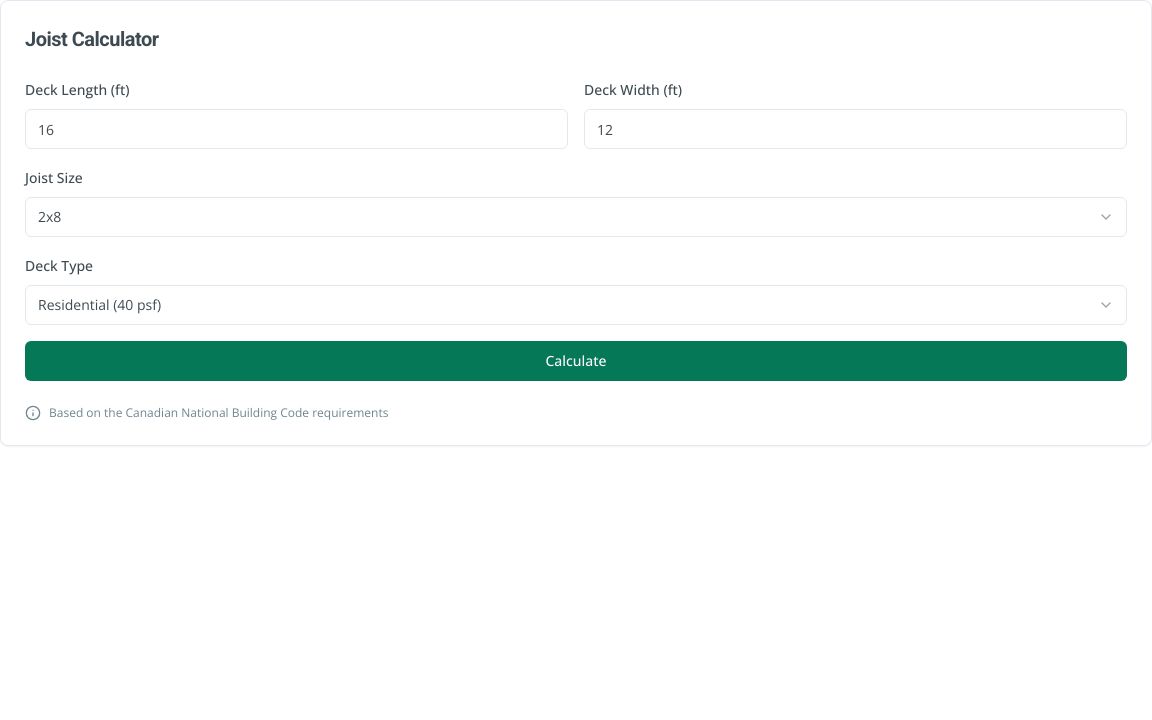
Test: JoistCalculator › clears a previous validation error once valid dimensions are calculated
The width and height of the screenshot is (1152, 720).
Clear the number field labelled "Deck Length (ft)". click: (296, 129)
box: [25,109,568,149]
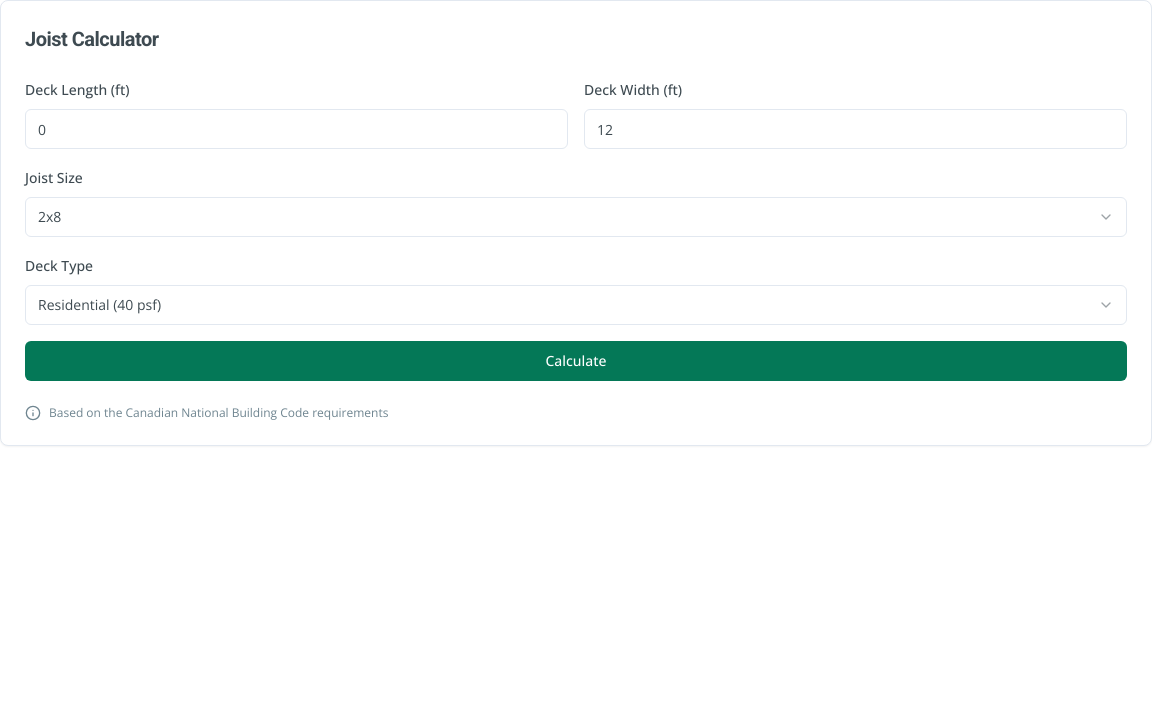
Click the button "Calculate". click: (576, 361)
box: [25,341,1127,381]
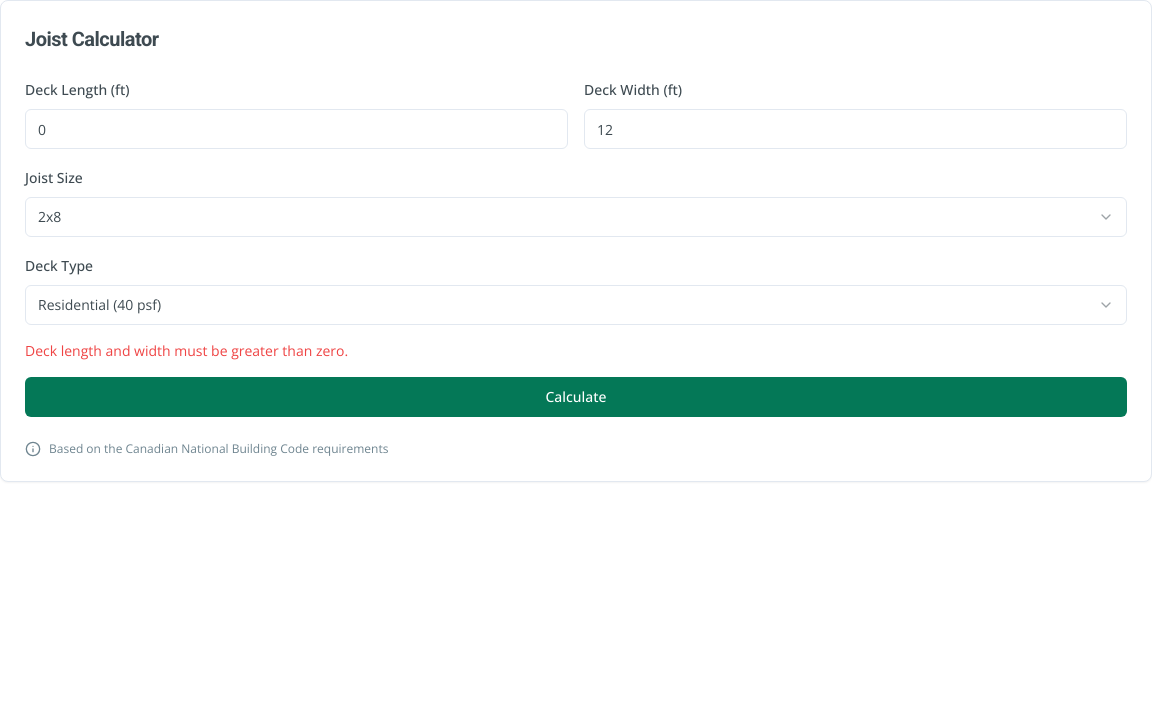
Expected: the message "Deck length and width must be greater than zero." is shown, [25,341,348,360]
Replace the text in the number field labelled "Deck Length (ft)" with "12". click: (296, 129)
box: [25,109,568,149]
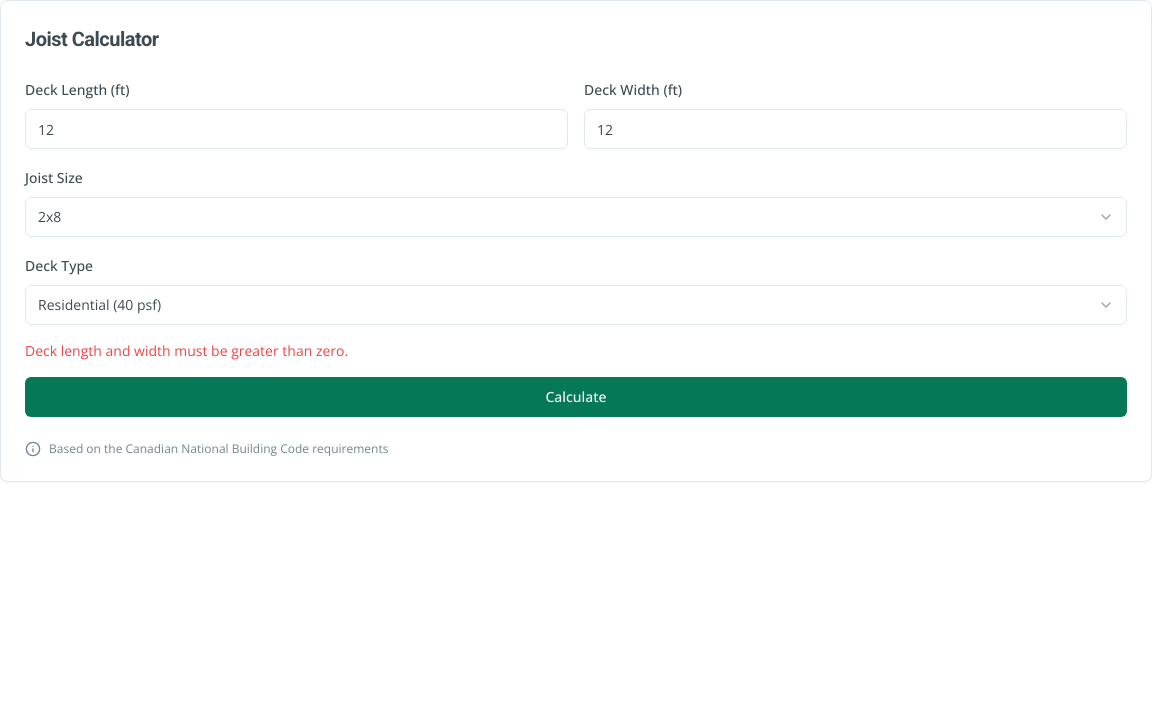
Click the button "Calculate". click: (576, 397)
box: [25,377,1127,417]
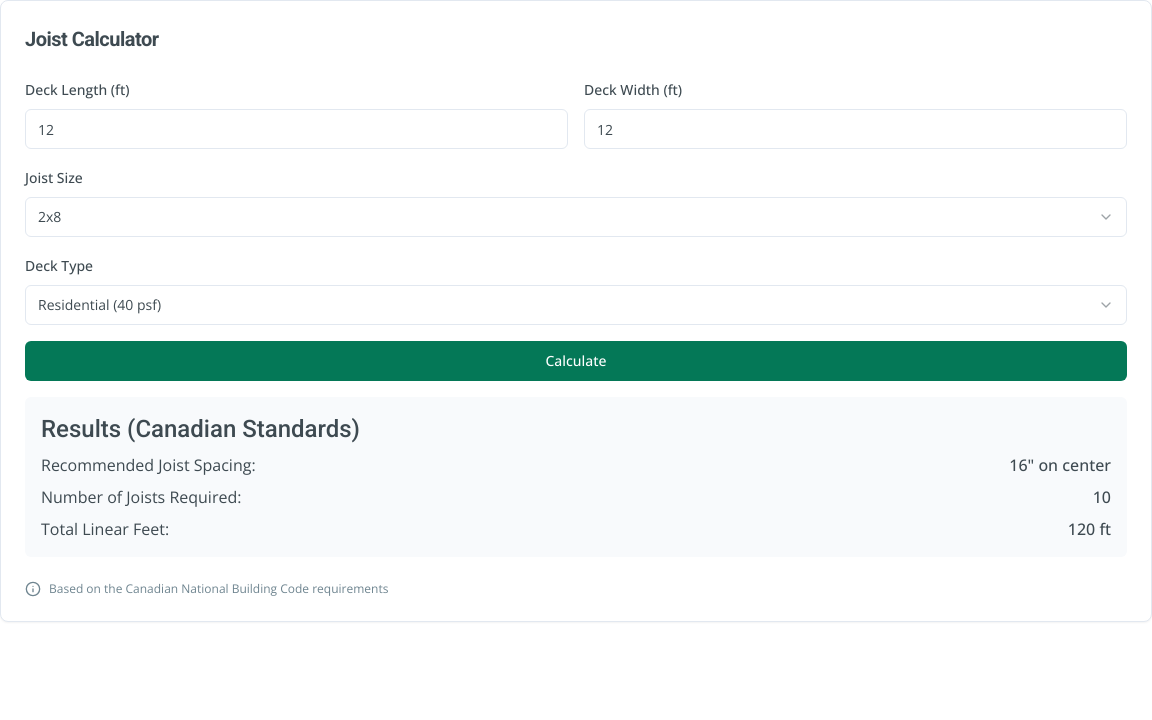
Expected: the message "Deck length and width must be greater than zero." is gone
Expected: the text "Number of Joists Required:" is shown, [41,485,241,509]
